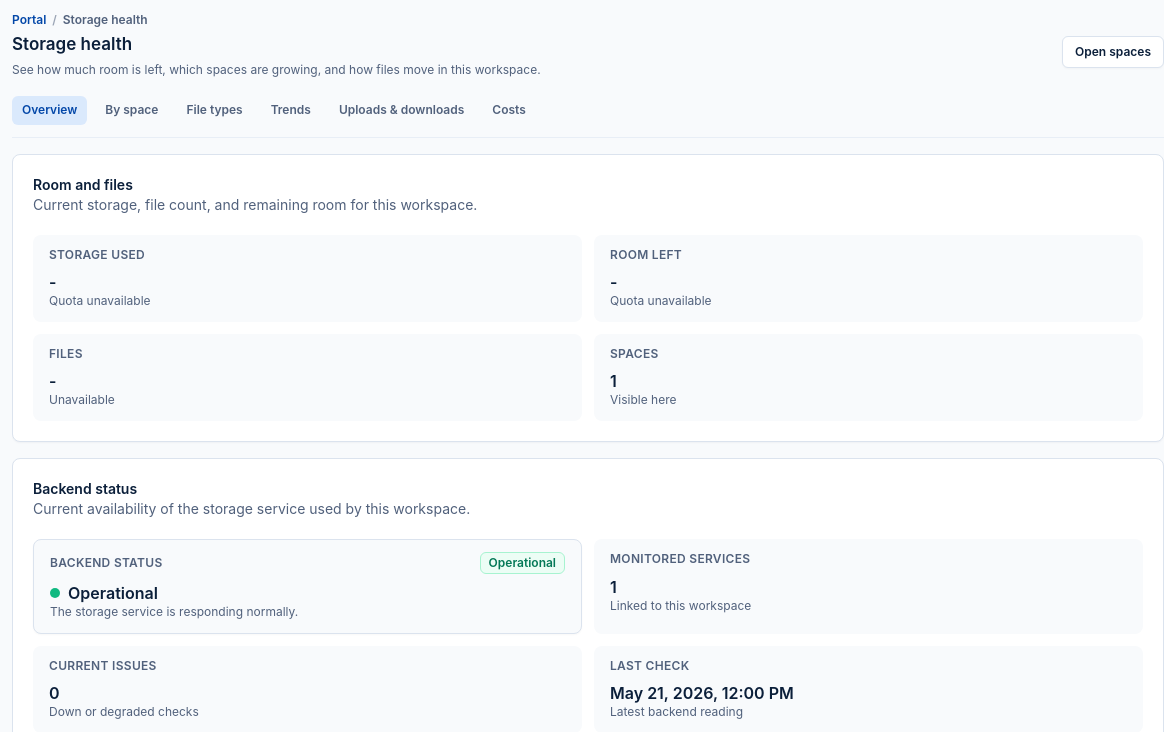
Test: PortalUsagePage › keeps unavailable usage, traffic and billing states inside their tabs
Expected: the text "Quota unavailable" below "Storage used" is shown, [49,293,150,308]
Step 1. Click the tab "By space" → (132, 110), box [95,96,168,124]
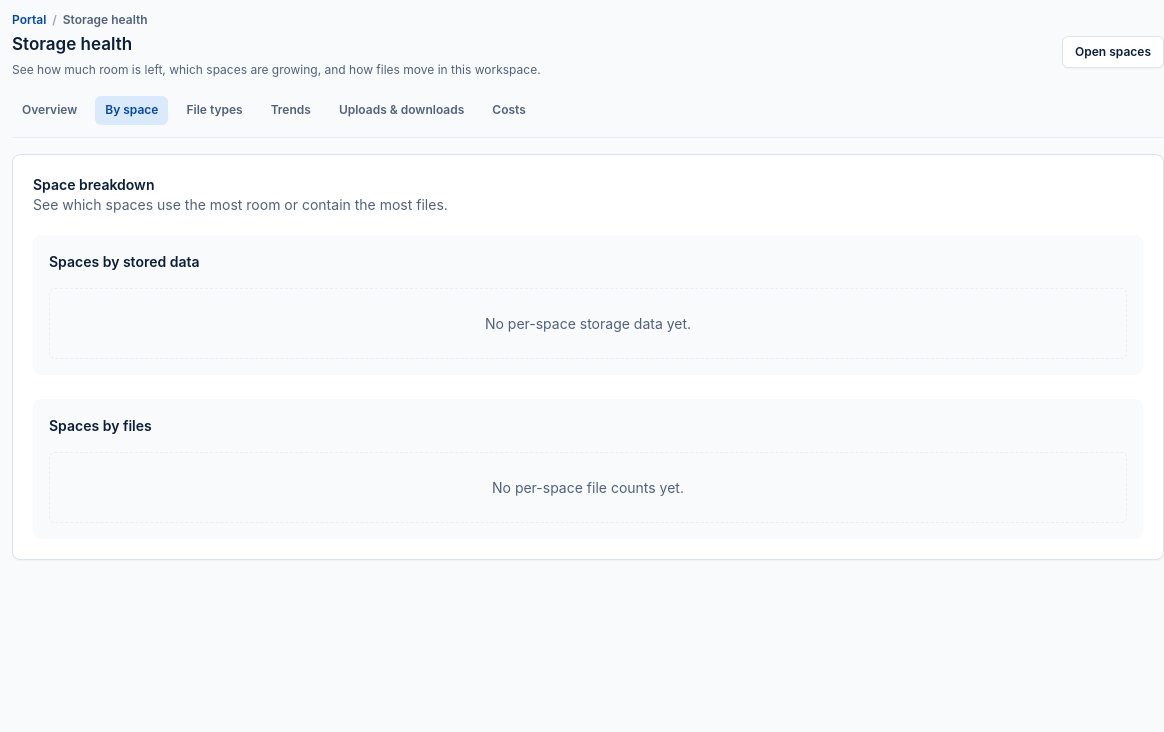
Result: the text "No per-space storage data yet." is shown at [49,288,1127,359]
Result: the text "No per-space file counts yet." is shown at [49,452,1127,523]
Step 2. Click the tab "File types" → (214, 110), box [176,96,253,124]
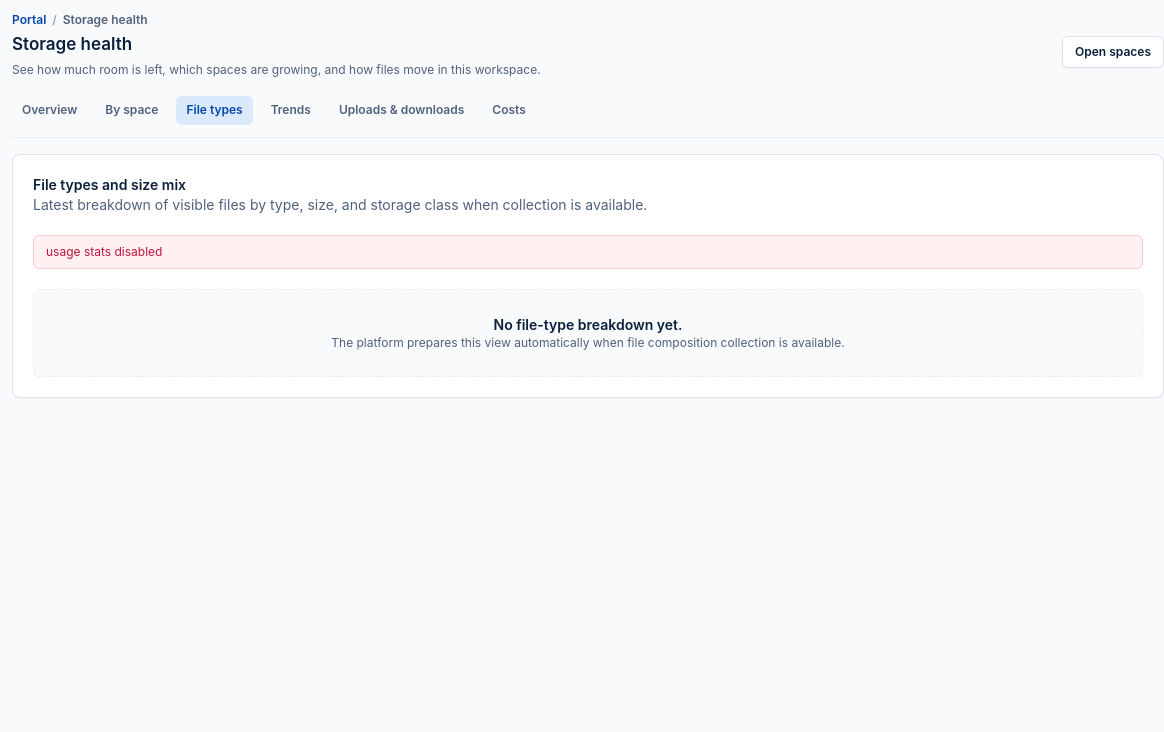
Result: the text "usage stats disabled" is shown at [33,235,1143,269]
Step 3. Click the tab "Trends" → (291, 110), box [261,96,321,124]
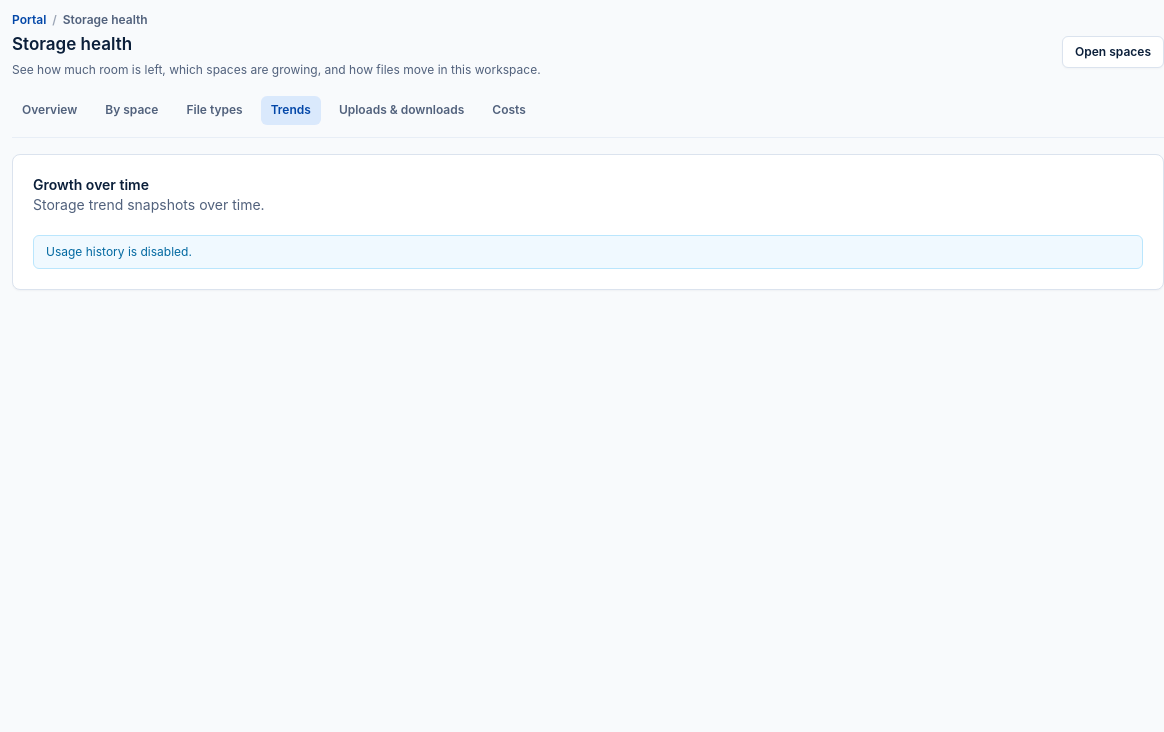
Result: the text "Usage history is disabled." is shown at [33,235,1143,269]
Step 4. Click the tab "Uploads & downloads" → (402, 110), box [329,96,474,124]
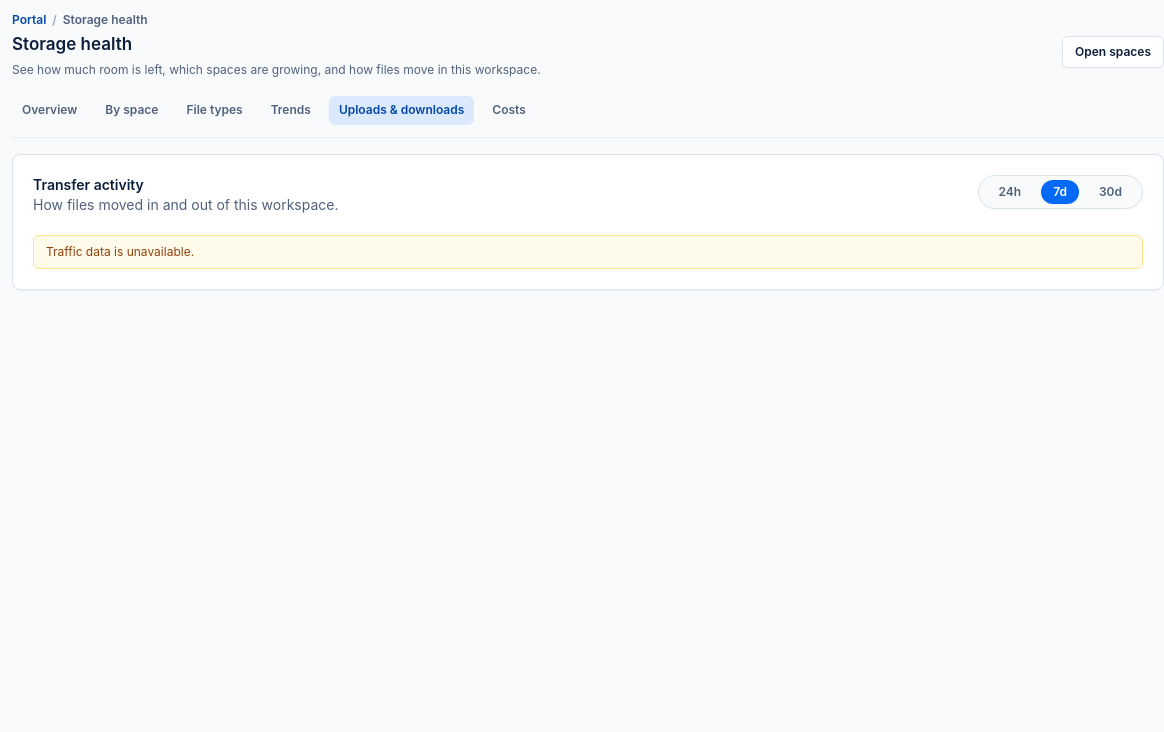
Result: the text "Traffic data is unavailable." is shown at [33,235,1143,269]
Step 5. Click the tab "Costs" → (509, 110), box [482,96,536,124]
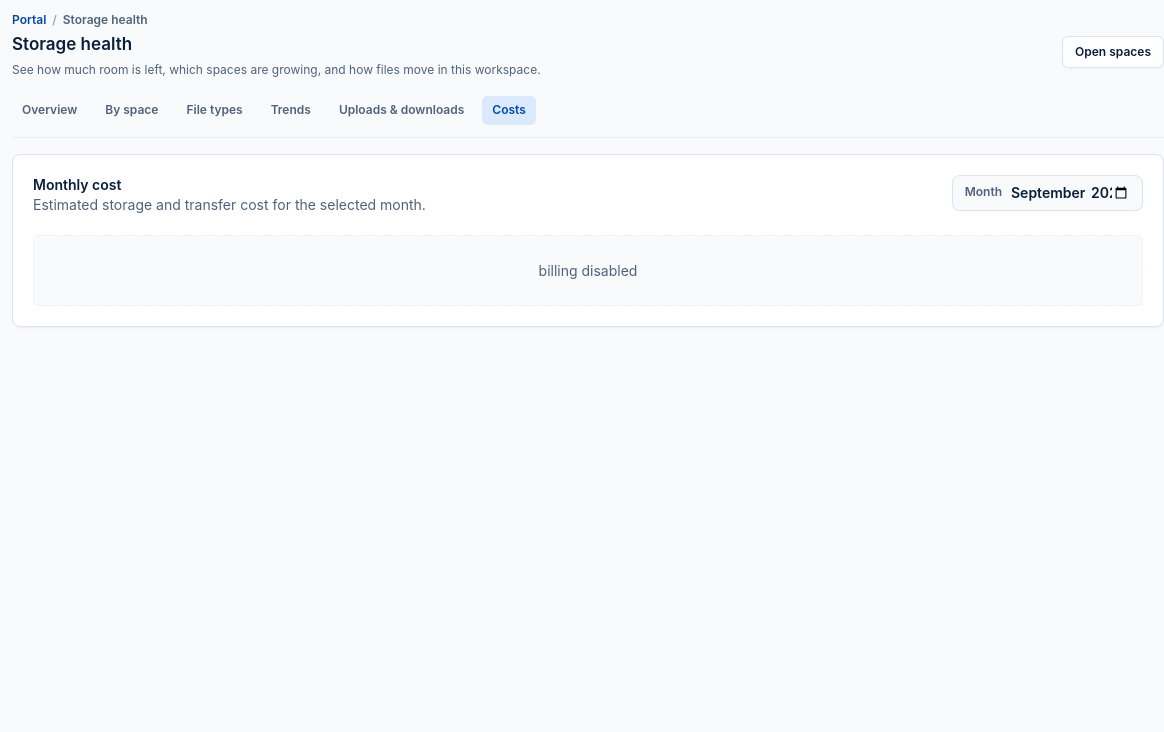
Result: the text "billing disabled" is shown at [33,235,1143,306]
